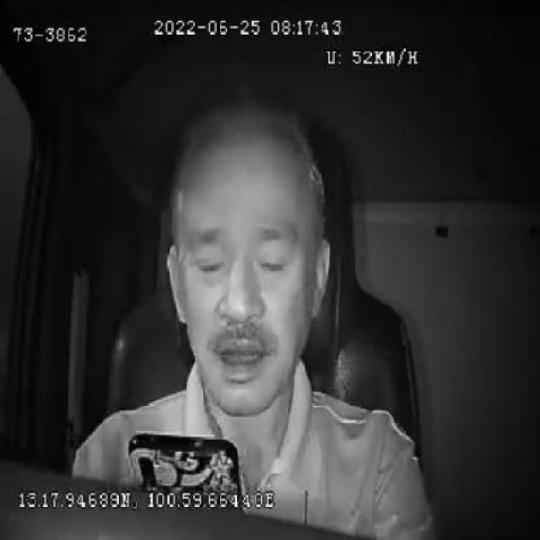phone: (126, 431, 244, 493)
